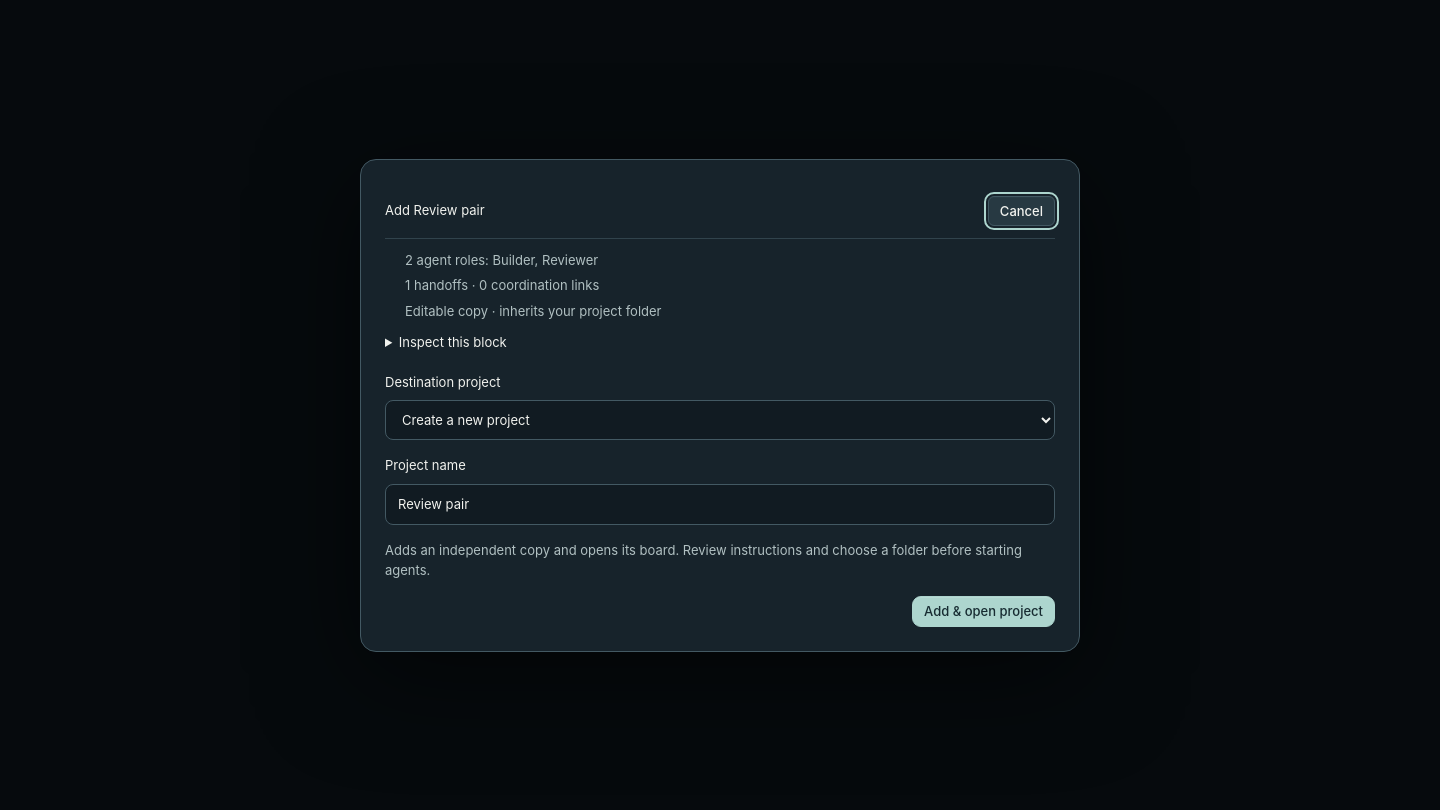
Scenario: does not add agents to a running project
The width and height of the screenshot is (1440, 810).
Select "Existing" in the dropdown labelled "Destination project" at (720, 420), box top-left (385, 400), bottom-right (1055, 440)
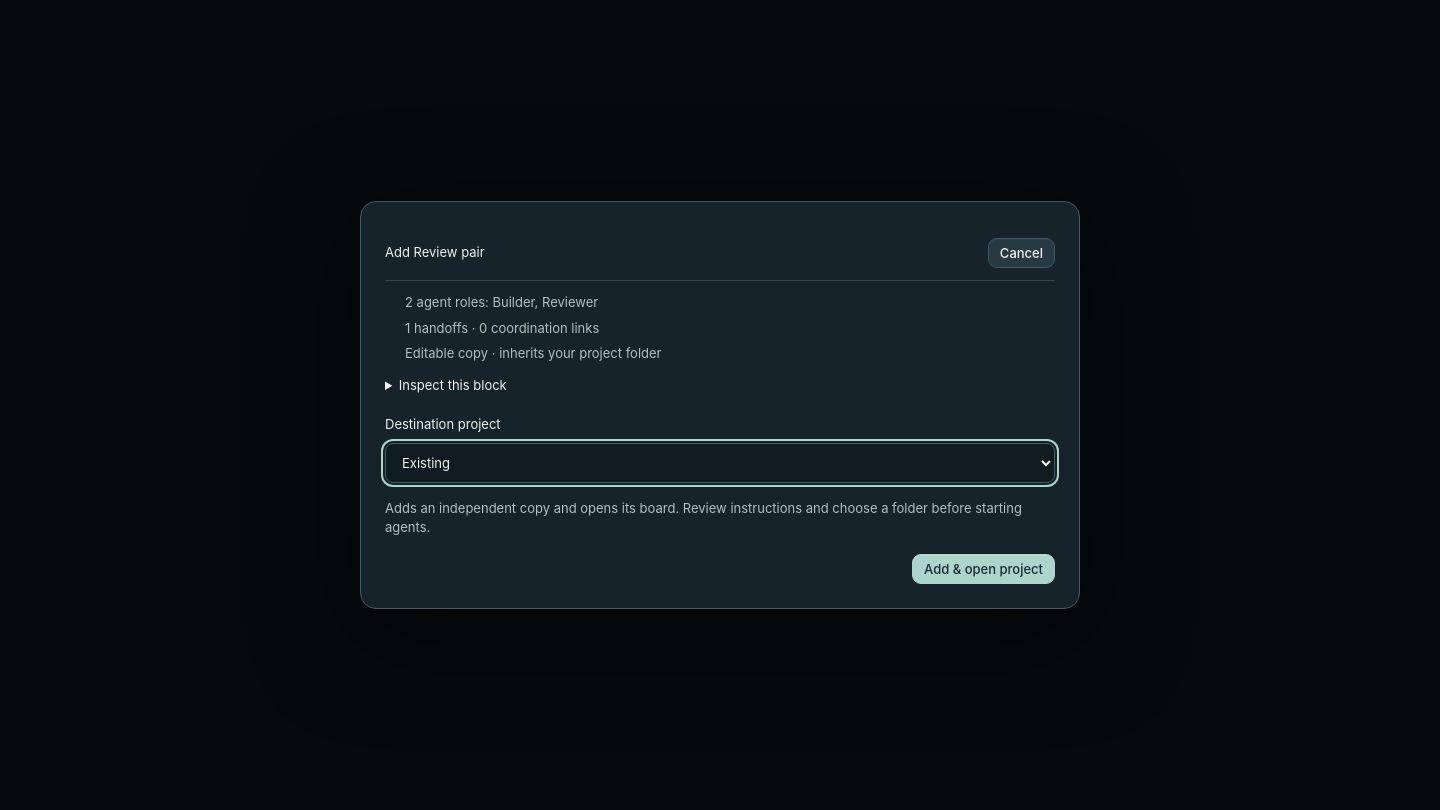
Click the button "Add & open project".
click(984, 569)  # box top-left (912, 554), bottom-right (1055, 584)
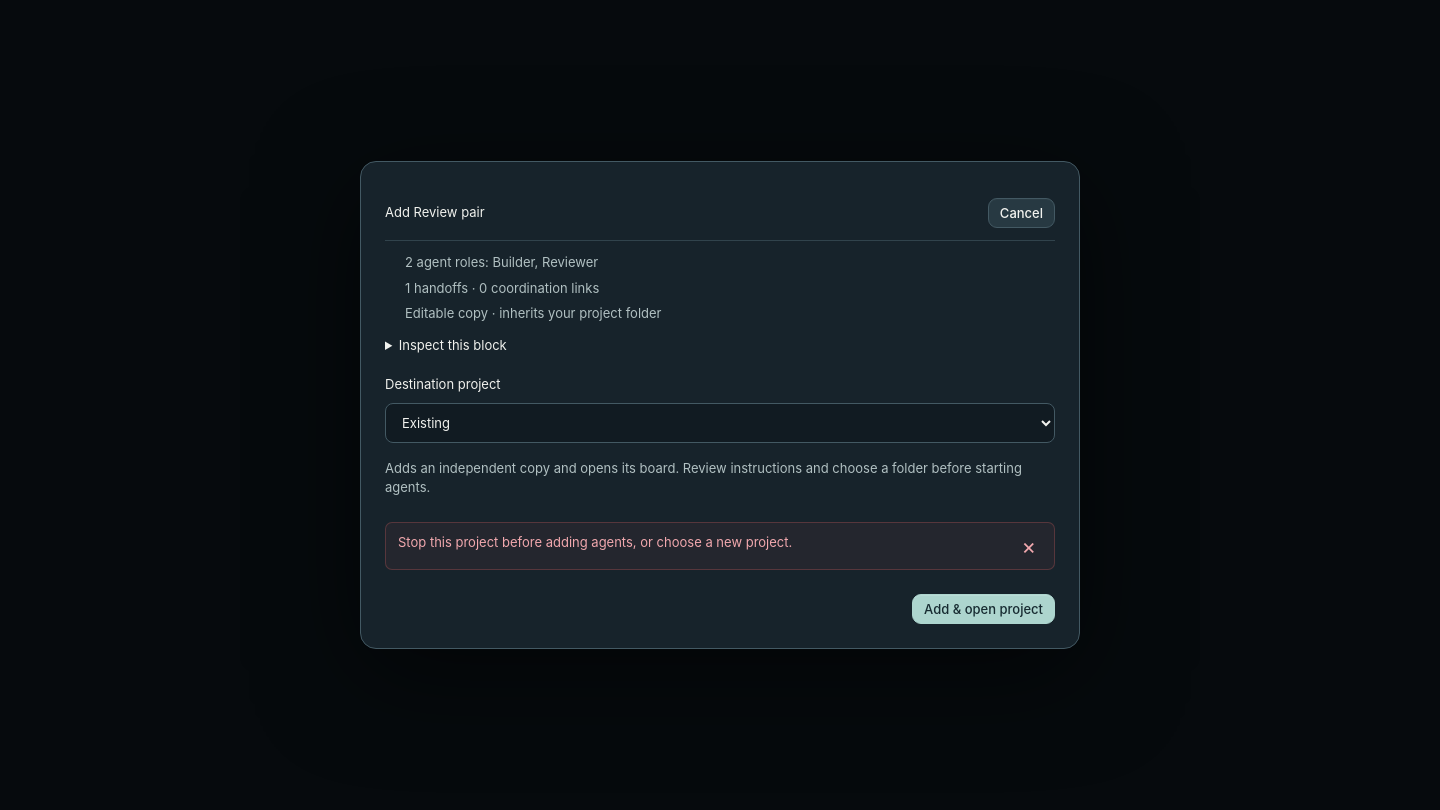
expect the text "Stop this project before adding agents, or choose a new project." is shown: met, box top-left (398, 534), bottom-right (792, 550)
